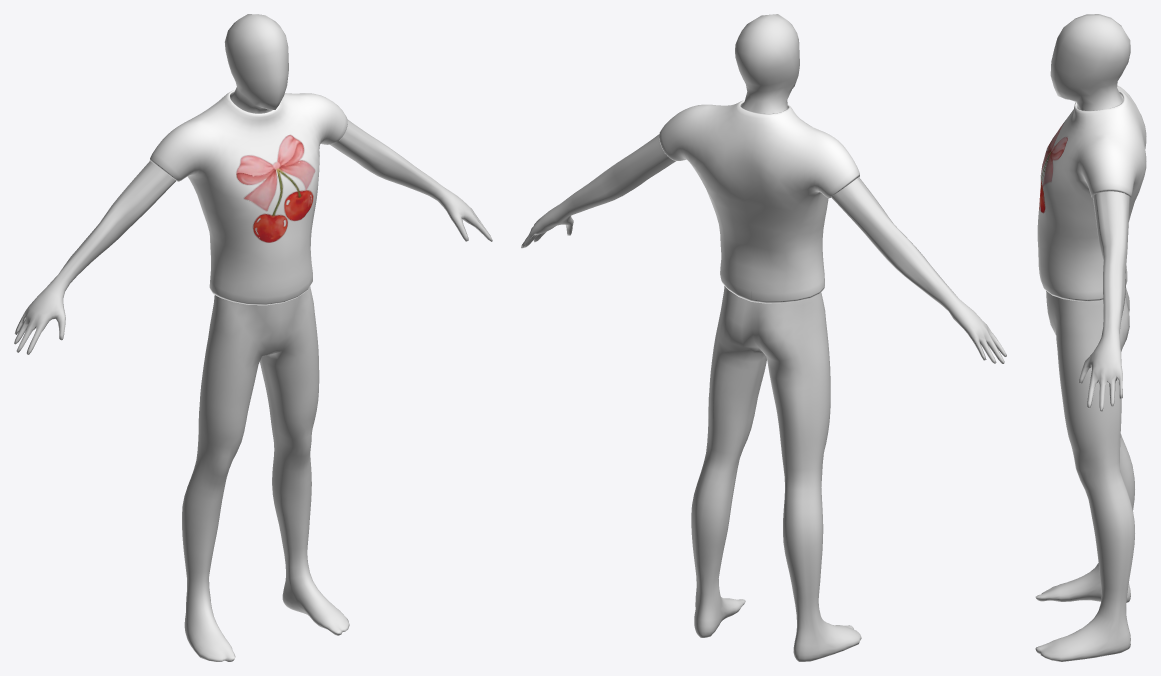
The model's file is Basic Tee1 Catalog_Model.fbx.
The picture shows the model from 3 angles, left to right: view 1: azimuth 30°, elevation 25°; view 2: azimuth 150°, elevation 25°; view 3: azimuth 270°, elevation 25°; orthographic projection.
Visible parts, largest first — view 1: Player, Basic Tee1, Basic Tee2; view 2: Player, Basic Tee2, Basic Tee1; view 3: Player, Basic Tee1, Basic Tee2.
Boxes of the visible parts, <box> form: Player: <box>14,14,492,661</box>; Basic Tee1: <box>151,90,347,305</box>; Basic Tee2: <box>149,89,329,293</box>; Player: <box>521,14,1006,661</box>; Basic Tee2: <box>659,101,856,303</box>; Basic Tee1: <box>692,100,859,293</box>; Player: <box>1035,14,1134,661</box>; Basic Tee1: <box>1037,90,1123,301</box>; Basic Tee2: <box>1075,85,1146,301</box>.
Size of the model in its own units: 2318 by 2864 by 472.
Materials: 3 (3 with a texture image).
